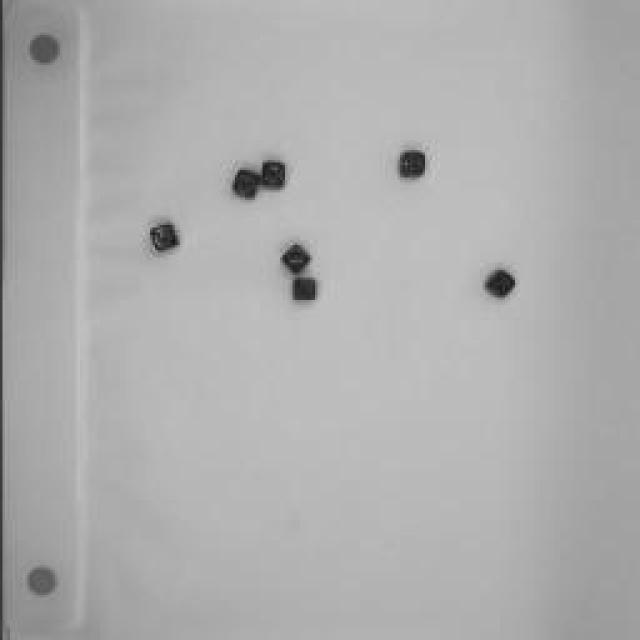dice_2: (144, 218, 184, 260), (275, 239, 315, 279)
dice_3: (392, 144, 432, 186), (256, 152, 292, 198)
dice_4: (288, 274, 320, 306)
dice_5: (477, 264, 525, 306)
dice_6: (226, 165, 264, 205)
